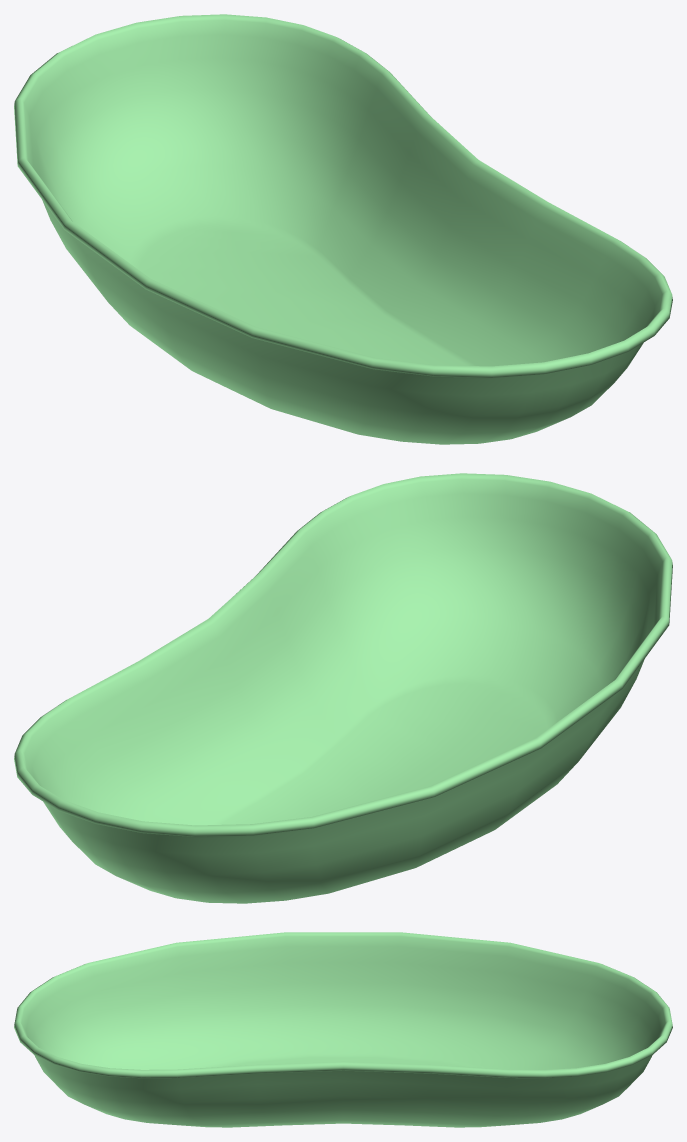
File: Kidney_dish.fbx
3 views of the same model, one above another, from view 1: azimuth 30°, elevation 25°; view 2: azimuth 150°, elevation 25°; view 3: azimuth 270°, elevation 25° (orthographic). The views are drawn at different scales.
Visible parts, largest first — view 1: kidney_dish; view 2: kidney_dish; view 3: kidney_dish.
Part boxes in pixels (left/top/right/bottom): kidney_dish: left=14, top=14, right=672, bottom=444; kidney_dish: left=14, top=473, right=672, bottom=903; kidney_dish: left=14, top=932, right=672, bottom=1127.
Bounding box in the file's own units: 0.1504 × 0.0508 × 0.2961.
